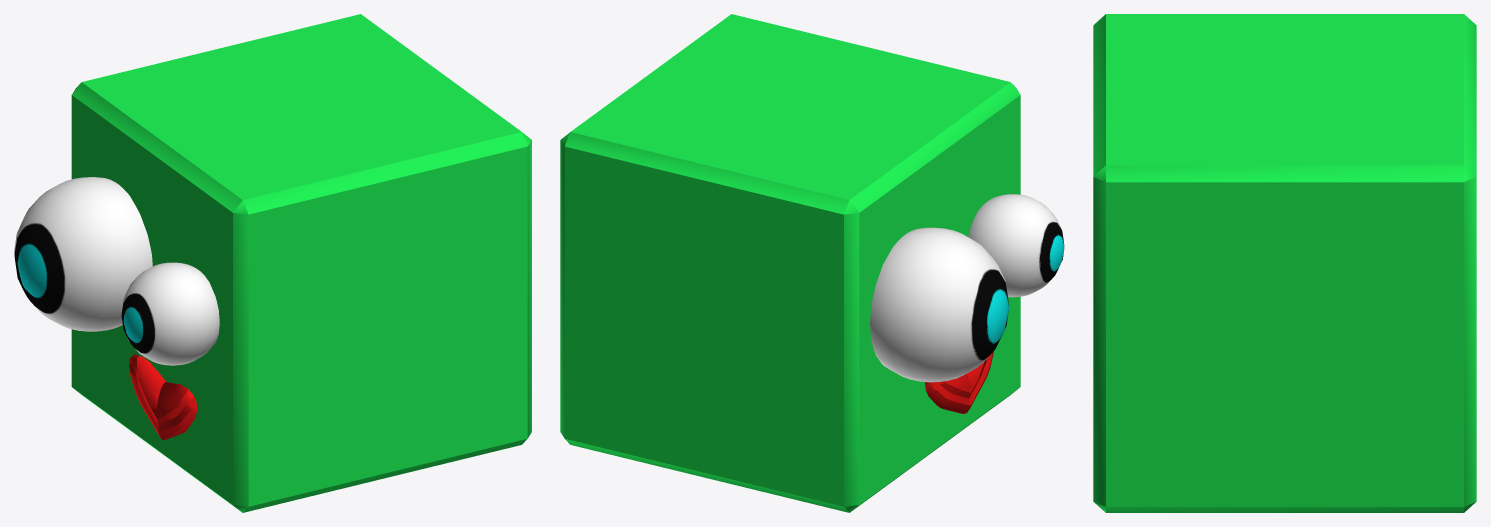
File: QuadradoGloink.glb
The picture shows the model from 3 angles, left to right: view 1: azimuth 30°, elevation 25°; view 2: azimuth 150°, elevation 25°; view 3: azimuth 270°, elevation 25°; orthographic projection. The views are drawn at different scales.
Parts seen in each view (by area): view 1: Object_6, Object_13, Object_7; view 2: Object_6, Object_13, Object_7; view 3: Object_6.
Part boxes in pixels (x1,y1,x2,y2): Object_6: (71,14,531,512); Object_13: (14,177,219,365); Object_7: (129,354,197,439); Object_6: (560,14,1020,512); Object_13: (870,194,1064,382); Object_7: (925,352,993,413); Object_6: (1093,14,1476,512).
Bounding box in the file's own units: 2.62 × 2 × 2.
3 materials, 1 textured.
